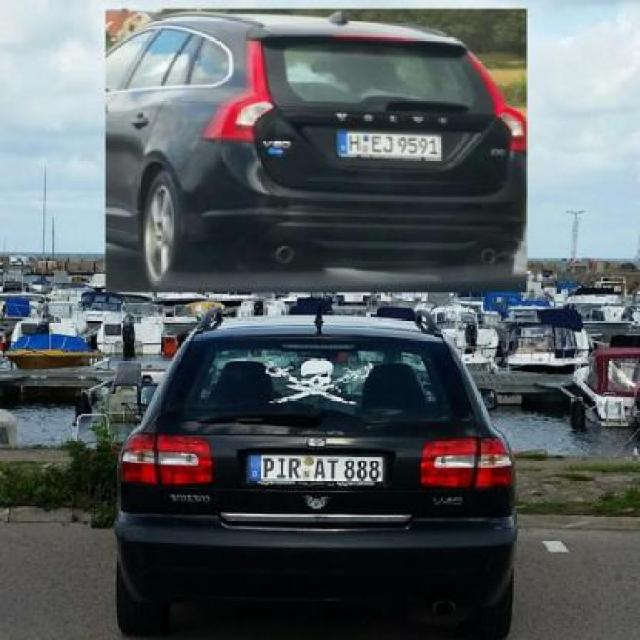License-Plates: (246, 454, 385, 486), (336, 128, 442, 160)
